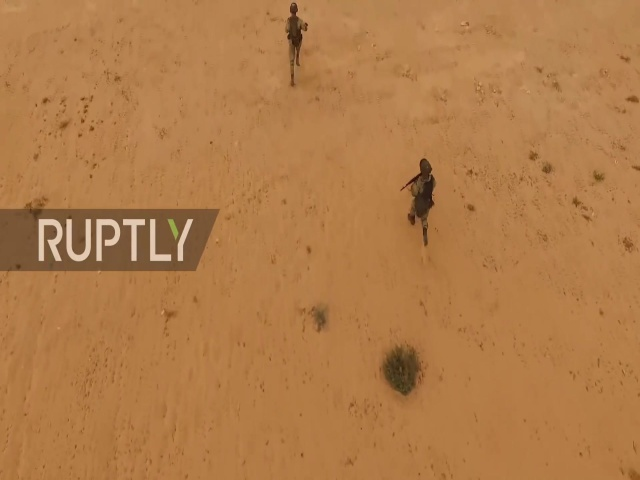person: (402, 158, 437, 249), (280, 1, 308, 86)
